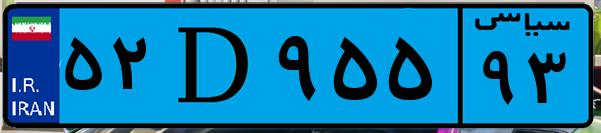2: (110, 28, 158, 98)
3: (525, 38, 570, 115)
5: (385, 28, 445, 110), (330, 28, 385, 110), (57, 26, 110, 100)
9: (270, 28, 330, 110), (475, 38, 525, 113)
D: (158, 12, 270, 120)
